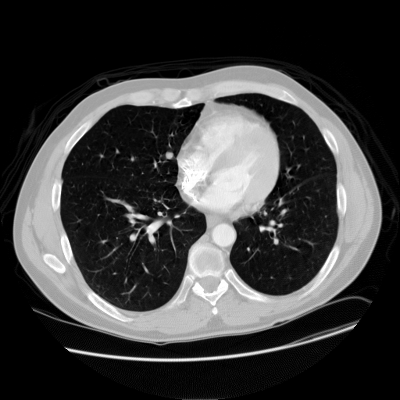nodule: (164, 151, 172, 159)
